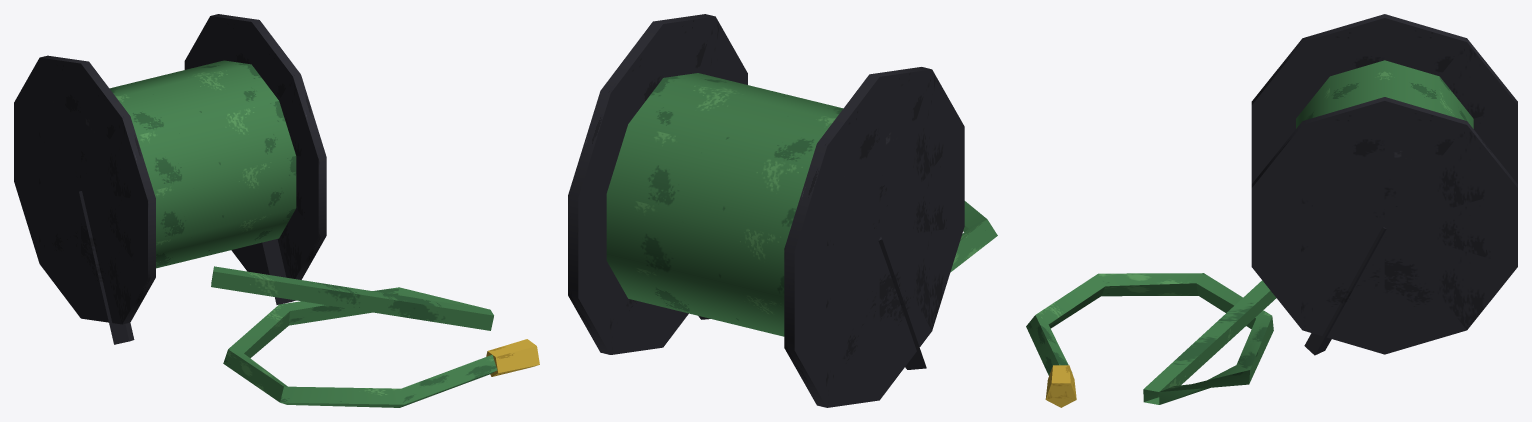
Rendered from garden_hose.glb.
3 renders of one model, left to right at view 1: azimuth 30°, elevation 25°; view 2: azimuth 150°, elevation 25°; view 3: azimuth 270°, elevation 25°, orthographic. The views are drawn at different scales.
Visible parts, largest first — view 1: Prop; view 2: Prop; view 3: Prop.
Part boxes in pixels (x1,y1,x2,y2): Prop: [14, 14, 539, 407]; Prop: [568, 14, 997, 407]; Prop: [1026, 14, 1517, 407].
Size of the model in its own units: 0.7341 by 0.6 by 1.05.
Materials: 1 (1 with a texture image).
